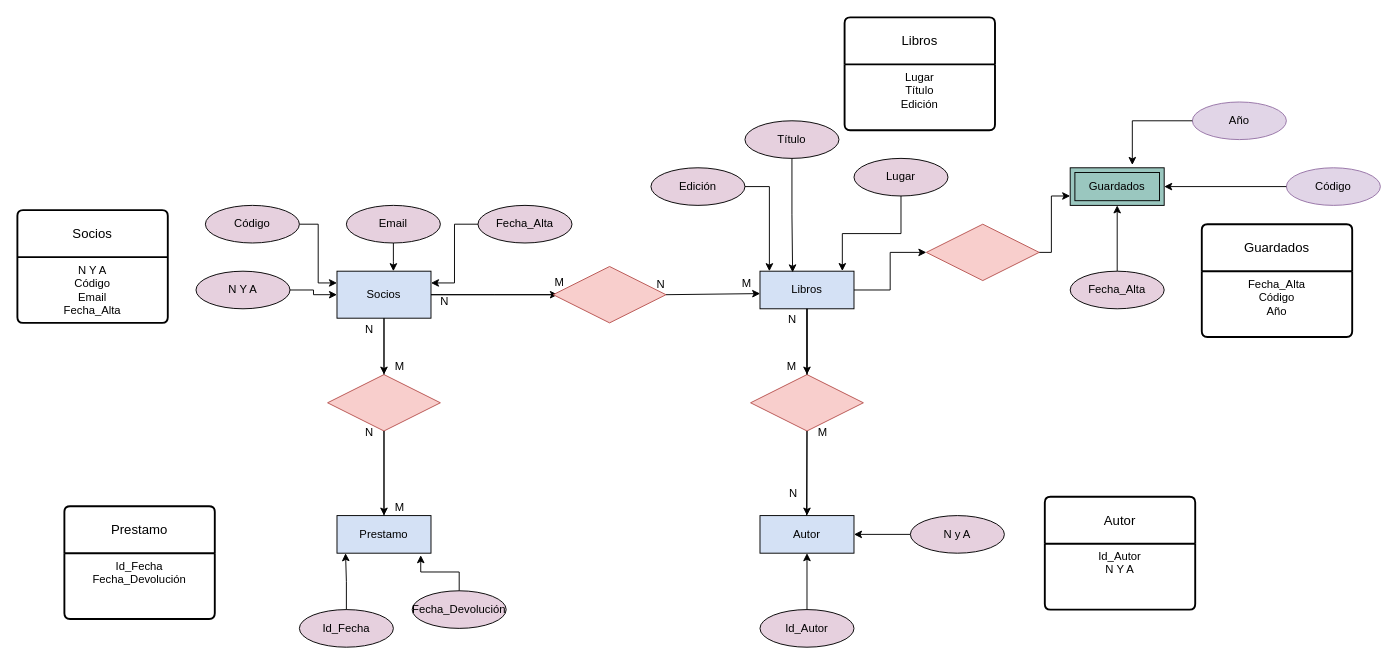
Image size: 1397x664. Some labels were removed from this diagram. The centre of each missing label's shape, as x and y in pixels:
"Escribe" belongs at pixel 806 402.
"Pide" belongs at pixel 609 294.
"Solicita" belongs at pixel 383 402.
"son" belongs at pixel 982 252.
